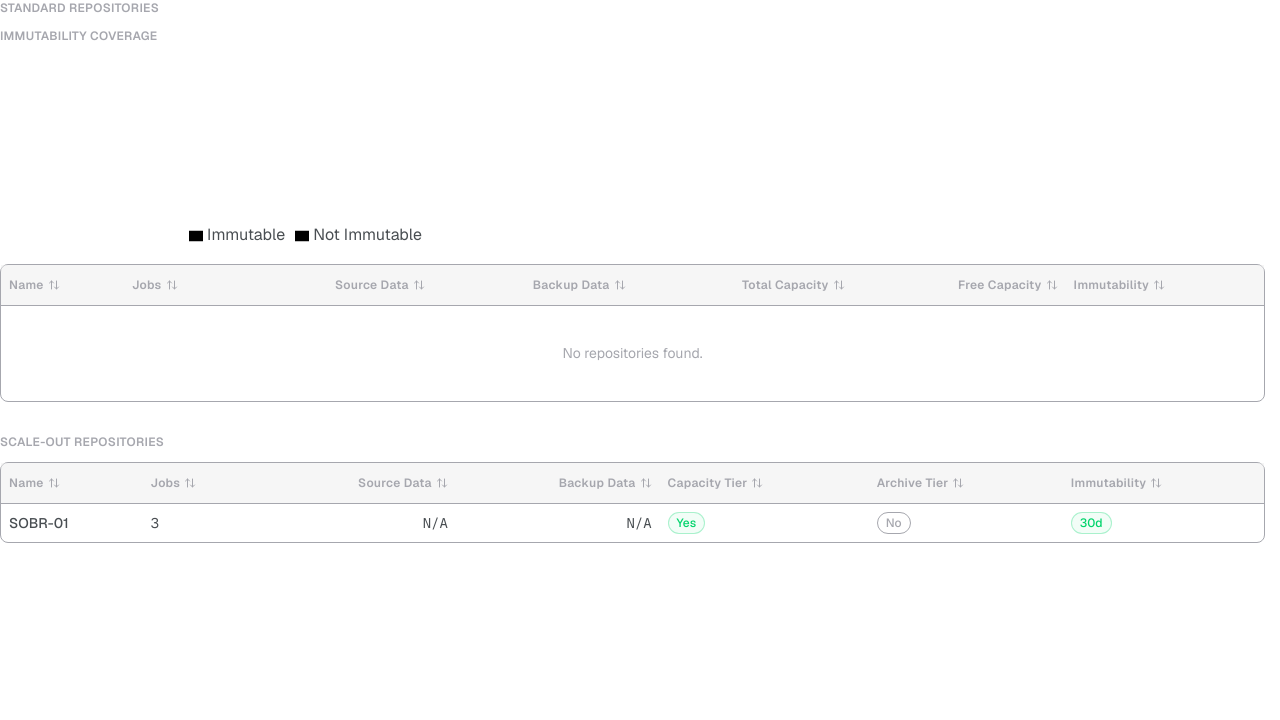
it: RepositoriesTab › clicking SOBR row opens detail sheet
This screenshot has width=1280, height=720.
Click the text "SOBR-01".
click(39, 522)  # box [9, 514, 69, 532]
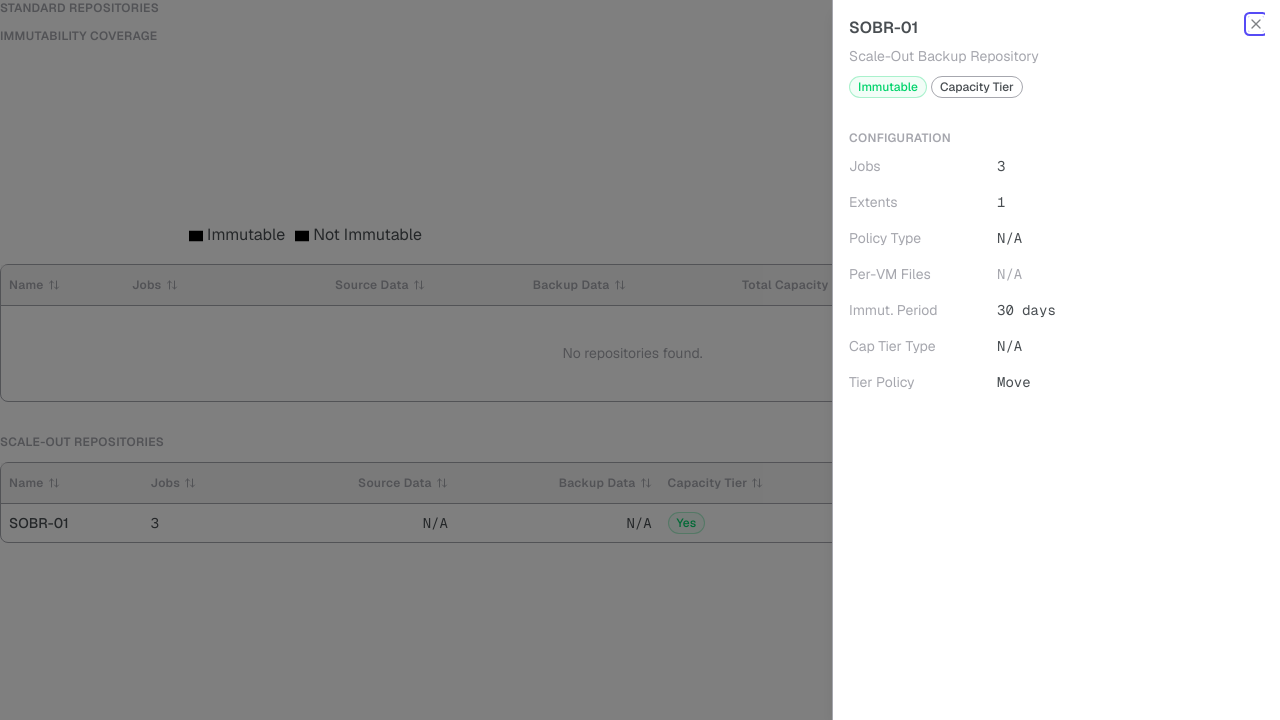
expect the dialog is shown: met, box [832, 0, 1279, 719]
